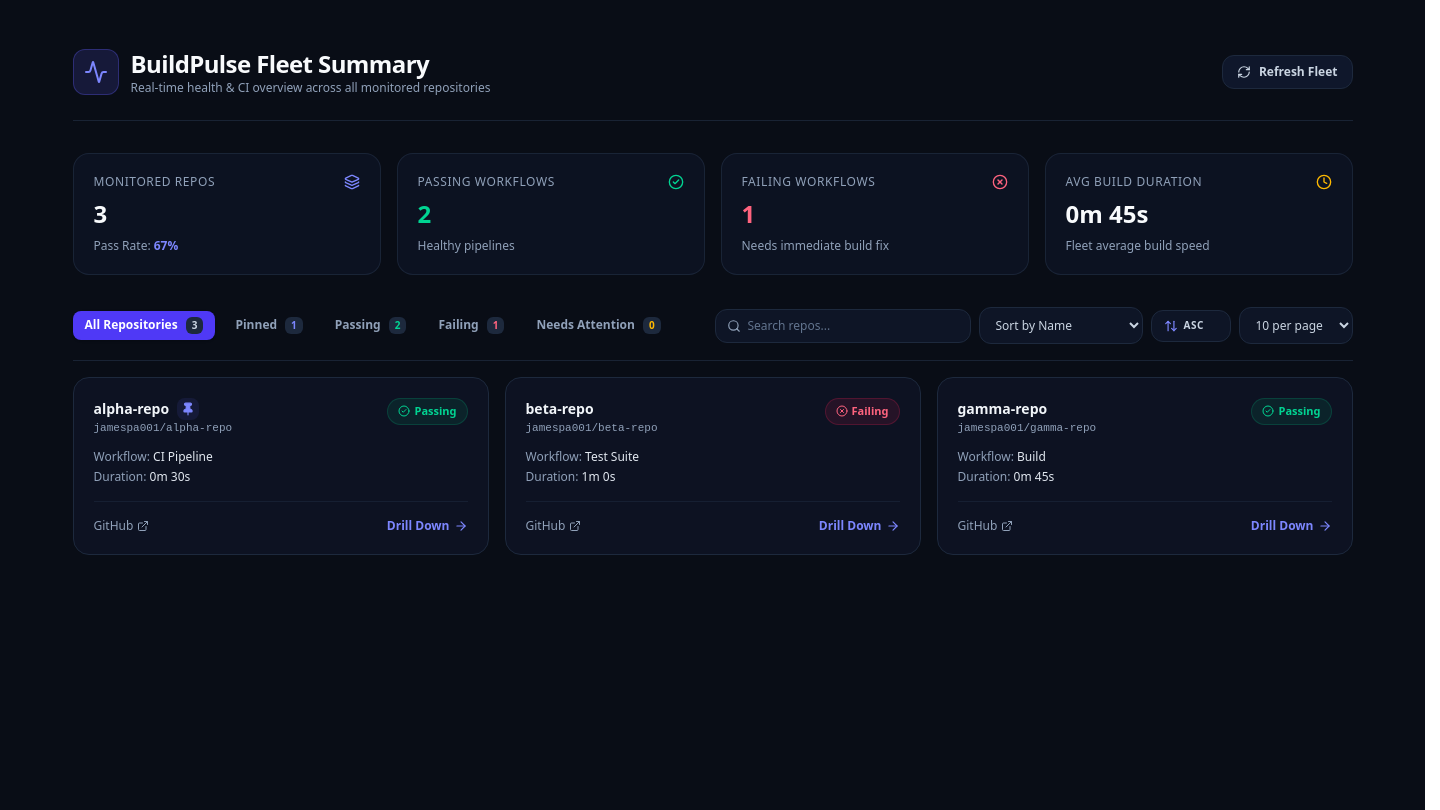
Scenario: SummaryLandingPage Component › filters repositories using the search bar
Expected: the heading "alpha-repo" is shown, [94, 399, 169, 419]
Type "beta" into the field with placeholder "Search repos..." at (842, 326), box [714, 308, 970, 342]
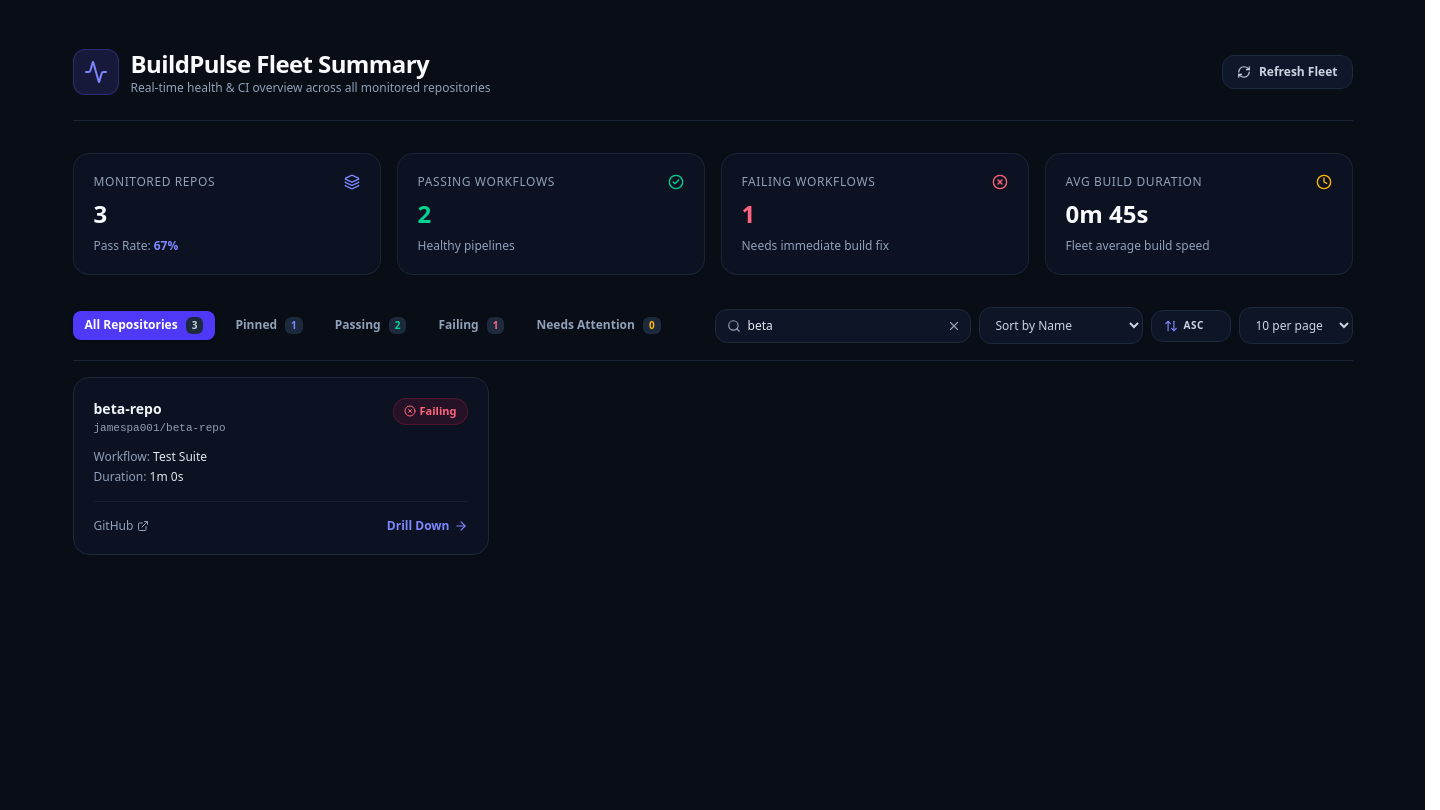
Expected: the heading "beta-repo" is shown, [94, 399, 162, 419]
Expected: the heading "alpha-repo" is gone
